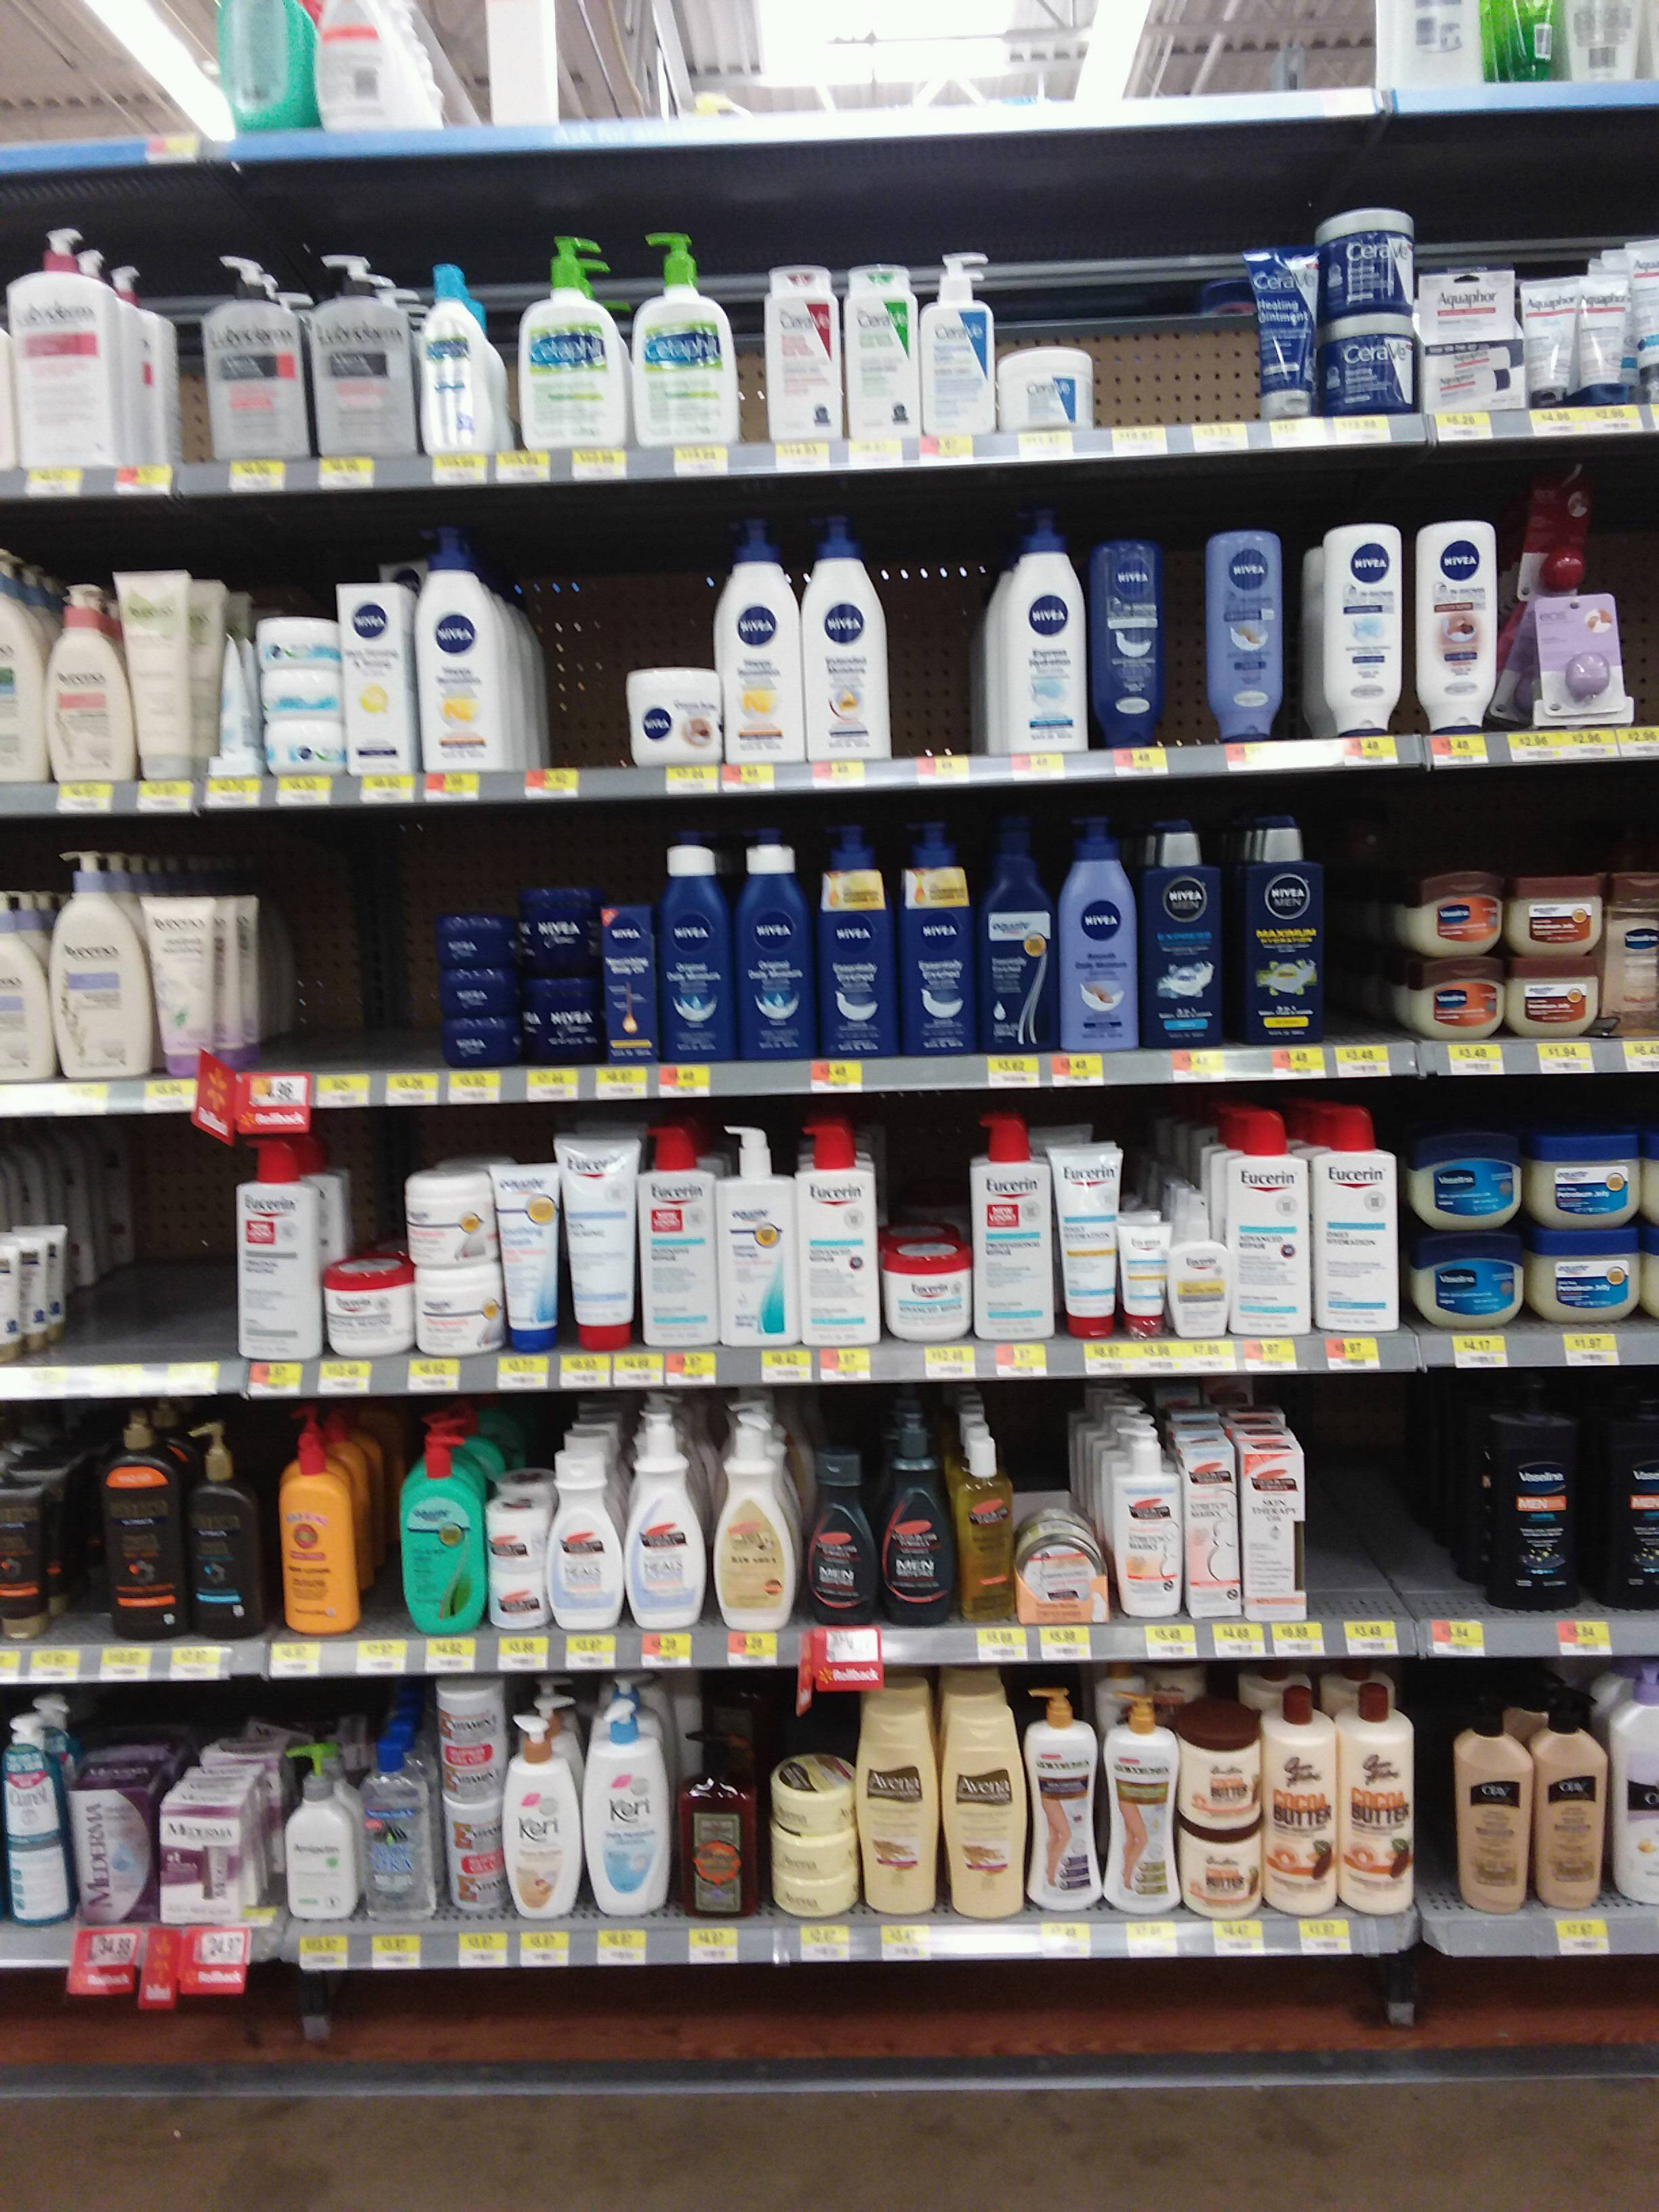Out-of-stock: (258, 808, 443, 1071)
